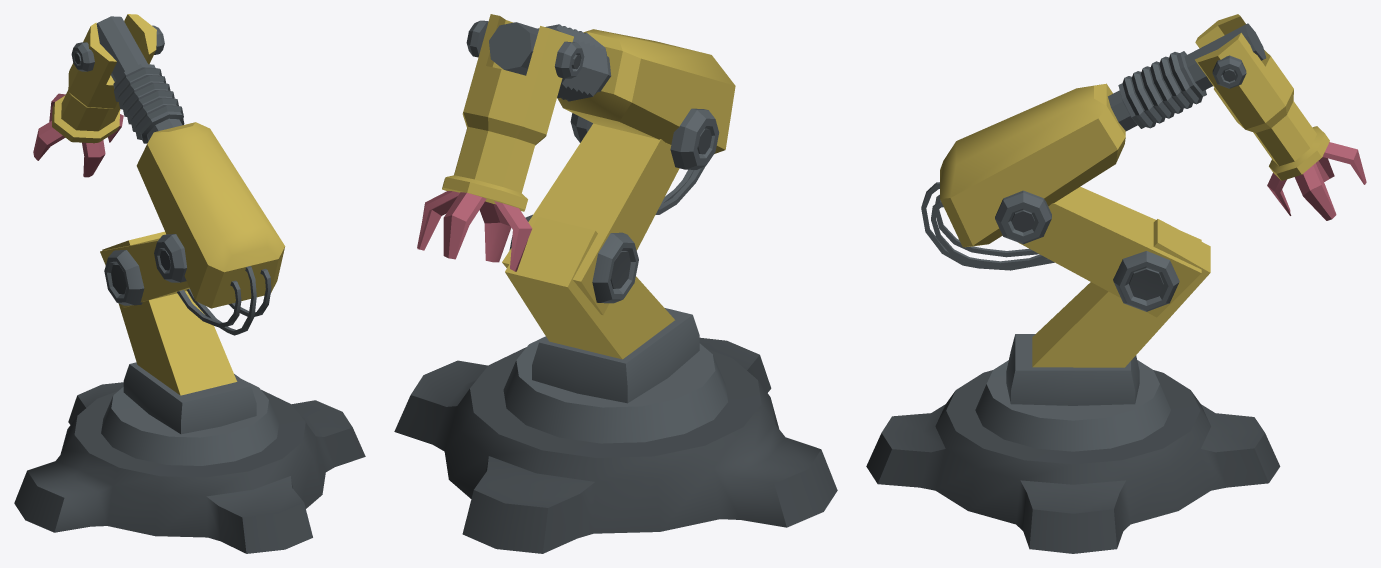
Rendered from robo arm.fbx.
3 views of the same model, side by side, from view 1: azimuth 30°, elevation 25°; view 2: azimuth 150°, elevation 25°; view 3: azimuth 270°, elevation 25° (orthographic). The views are drawn at different scales.
Visible parts, largest first — view 1: robo arm; view 2: robo arm; view 3: robo arm.
Part boxes in pixels (x1=…): robo arm: x1=14, y1=14, x2=365, y2=553; robo arm: x1=394, y1=14, x2=837, y2=553; robo arm: x1=866, y1=14, x2=1366, y2=553.
Size of the model in its own units: 86.49 by 102 by 105.
1 material, 1 textured.
